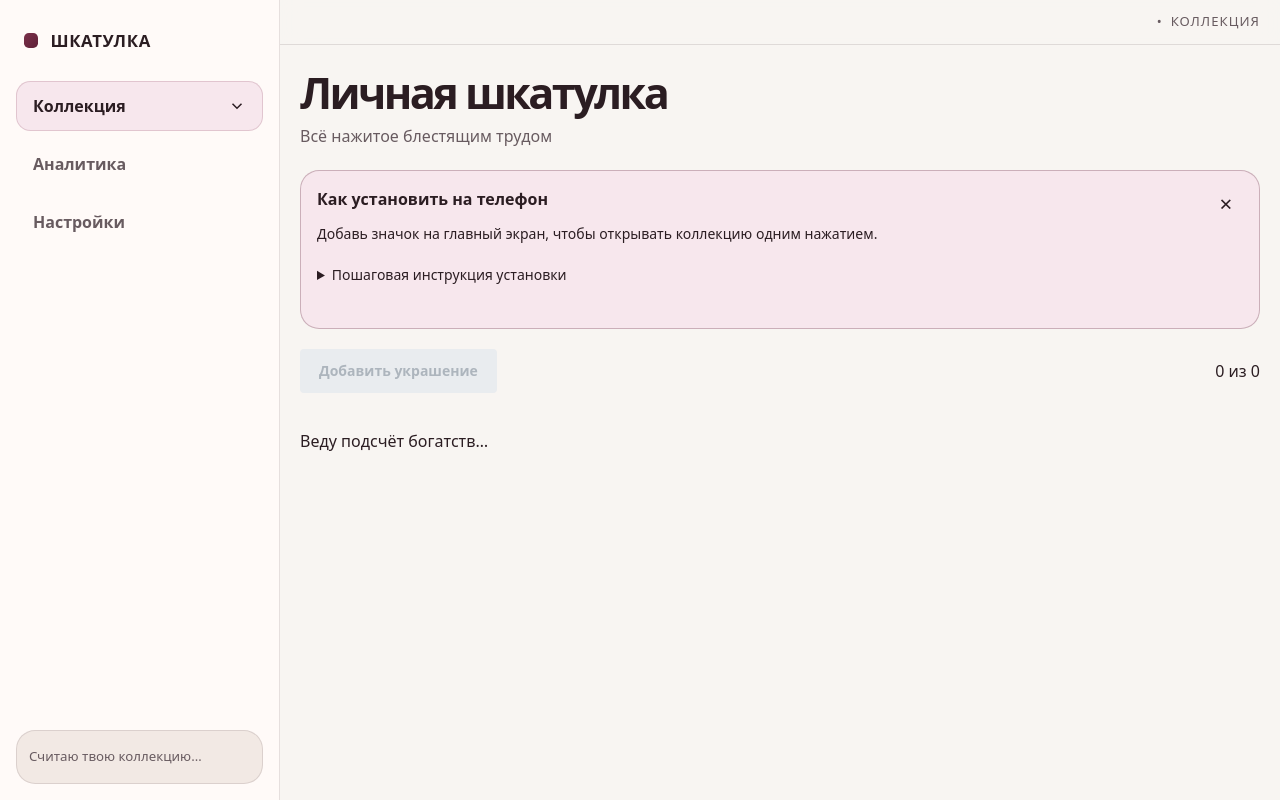
foundation app › selects a category without seeding demo jewelry
expect the button "Серьги" is not shown: met
Click the button "Коллекция": (140, 106) [16,81,263,131]
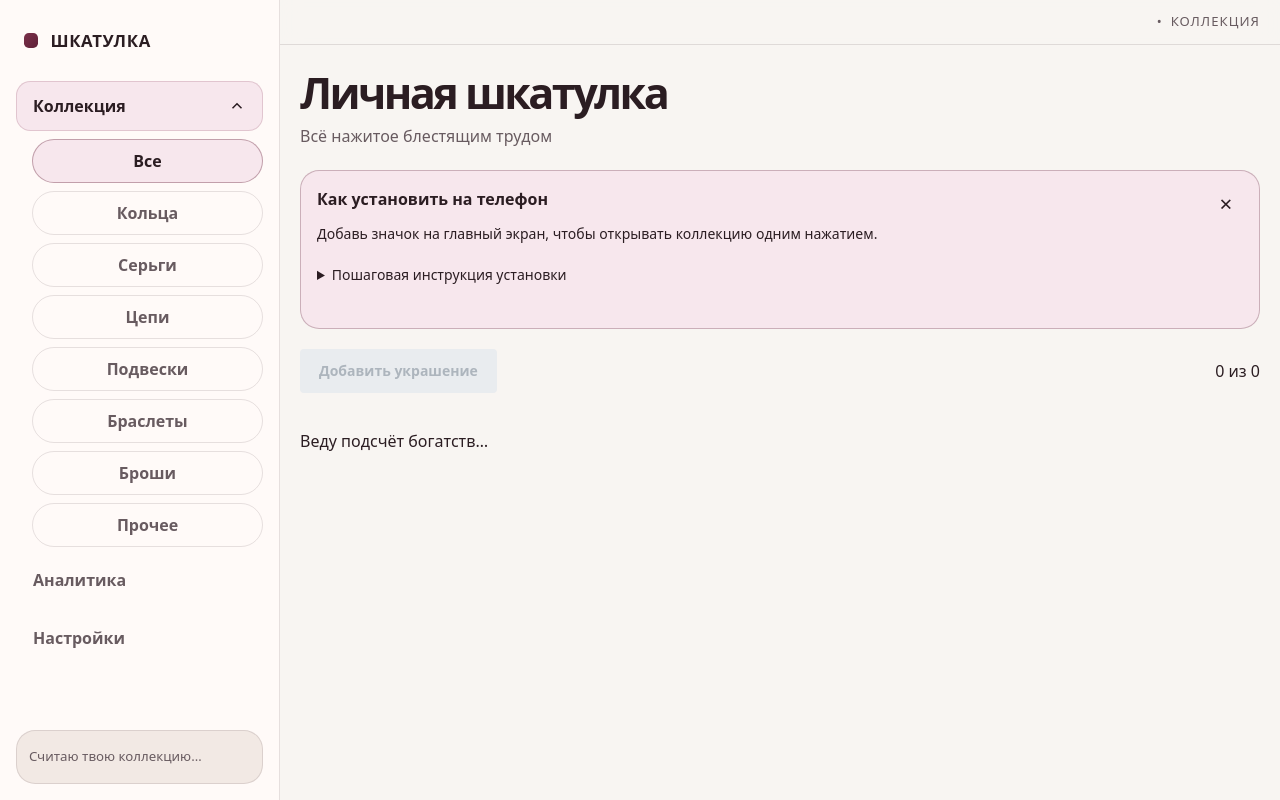
expect the button "Коллекция" is expanded: met, box [16,81,263,131]
Click the button "Серьги": (148, 265) [32,243,263,287]
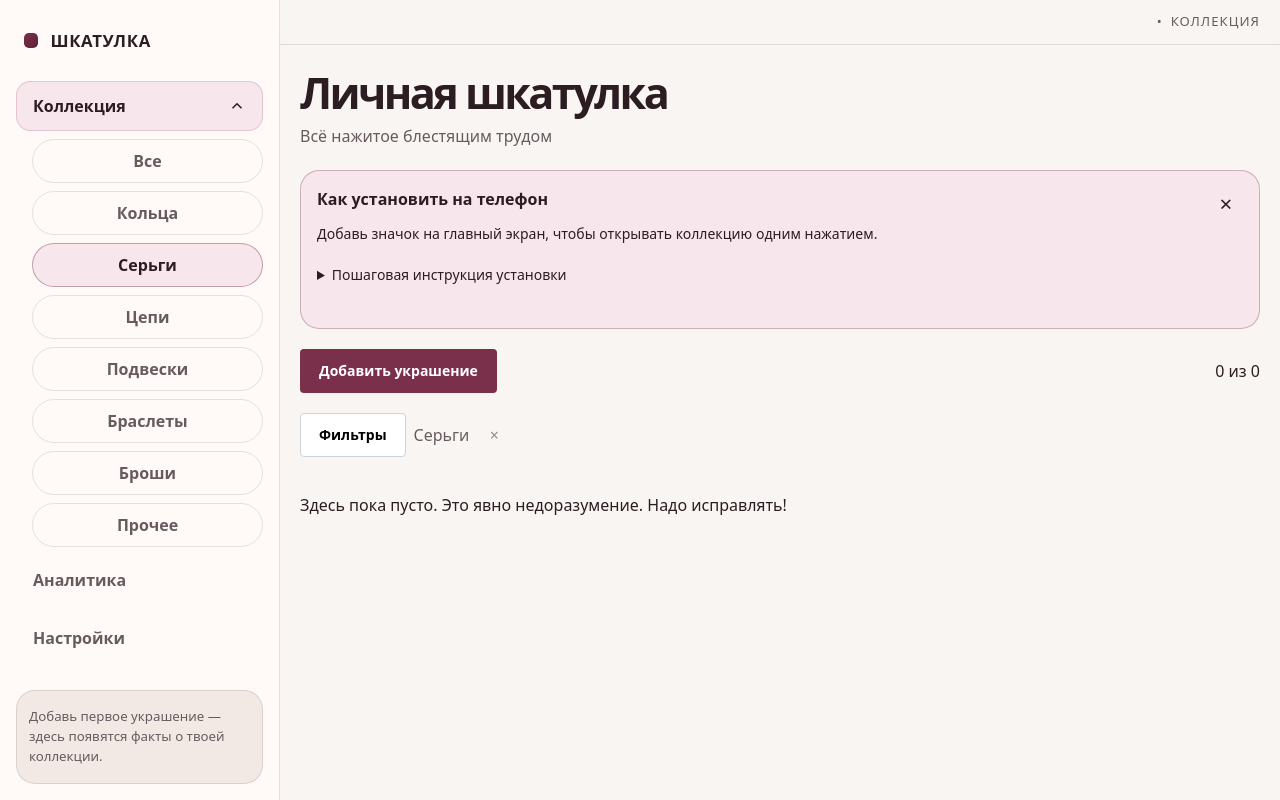
expect the text "Здесь пока пусто. Это явно недоразумение. Надо исправлять!" is shown: met, box [300,494,787,516]
